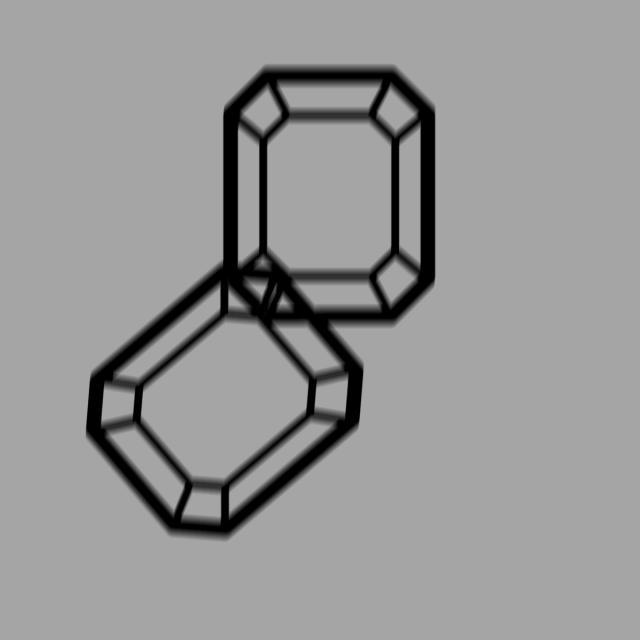emerald: (77, 251, 375, 552), (212, 54, 443, 334)
